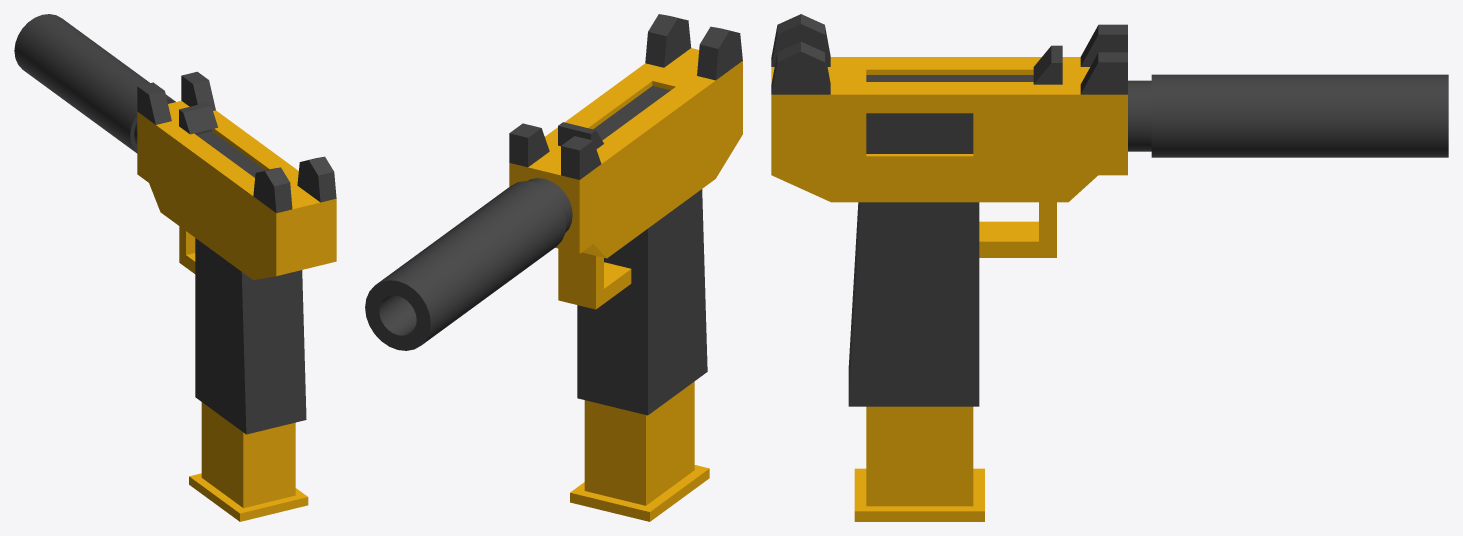
The model's file is uziSilencerGold.obj.
3 views of the same model, side by side, from view 1: azimuth 30°, elevation 25°; view 2: azimuth 150°, elevation 25°; view 3: azimuth 270°, elevation 25° (orthographic). The views are drawn at different scales.
Visible parts, largest first — view 1: Group; view 2: Group; view 3: Group.
Part boxes in pixels (bbox=[...]): Group: bbox=[14, 14, 336, 521]; Group: bbox=[365, 14, 742, 521]; Group: bbox=[771, 14, 1448, 521].
Bounding box in the file's own units: 0.0651 × 0.333 × 0.4368.
